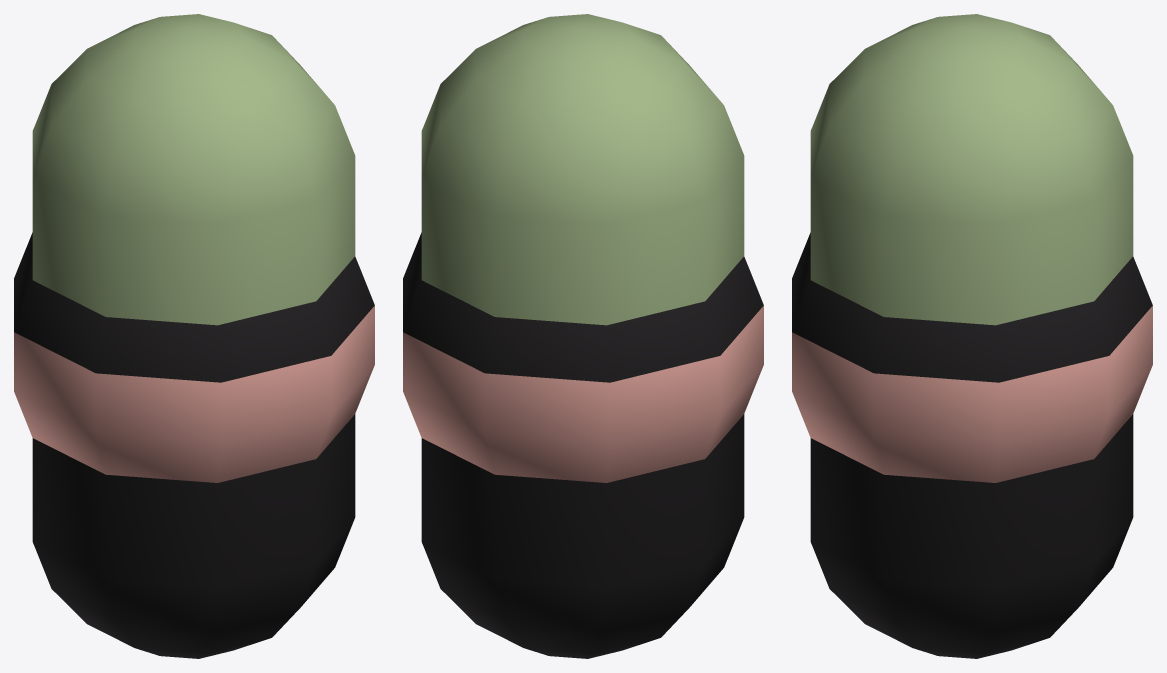
The model's file is character5.glb.
3 views of the same model, side by side, from view 1: azimuth 30°, elevation 25°; view 2: azimuth 150°, elevation 25°; view 3: azimuth 270°, elevation 25° (orthographic).
Parts seen in each view (by area): view 1: body, head; view 2: body, head; view 3: body, head.
Boxes of the visible parts, x1,y1,x2,y2 form: body: [32, 14, 355, 658]; head: [14, 232, 374, 482]; body: [421, 14, 744, 658]; head: [403, 232, 763, 482]; body: [810, 14, 1133, 658]; head: [792, 232, 1152, 482].
Size of the model in its own units: 1.65 by 3.06 by 1.63.
